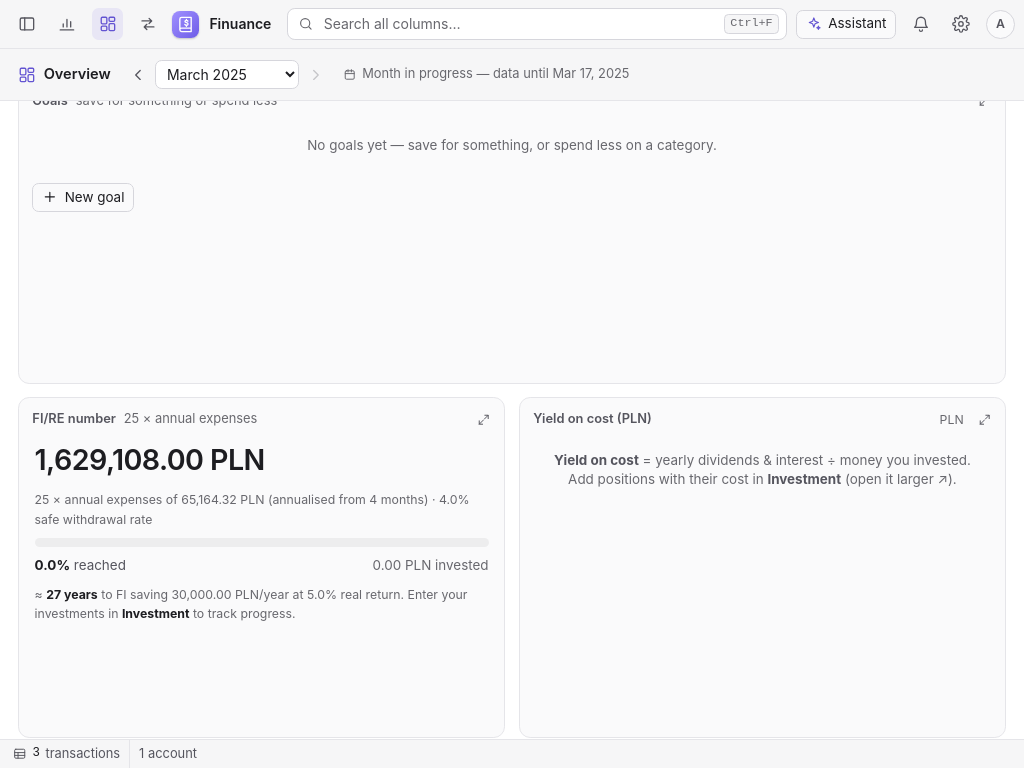
Test: overview page › a stale save shows the stored document
This screenshot has width=1024, height=768.
(page scrolled)
Click the button titled "Open larger" in the row of "FI/RE number" at (482, 420), box [471,408,493,431]
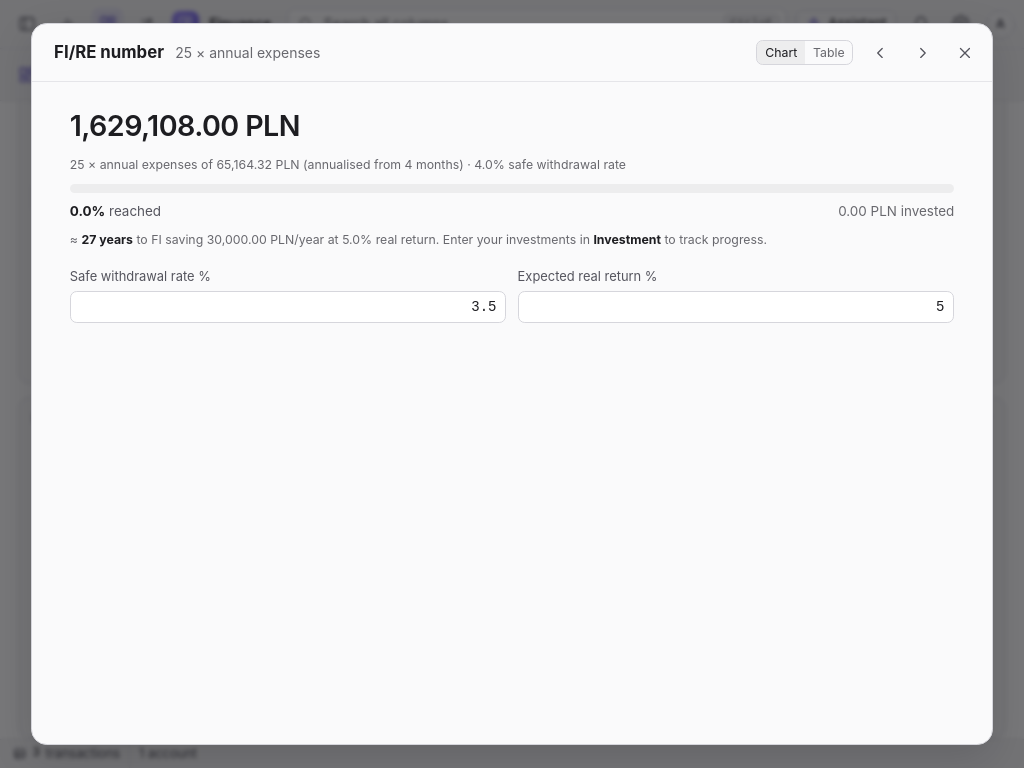
Check: the field labelled "Safe withdrawal rate %" holds "3.5"
Replace the text in the field labelled "Safe withdrawal rate %" with "4" at (288, 307), box [70,291,506,323]
Then press Enter
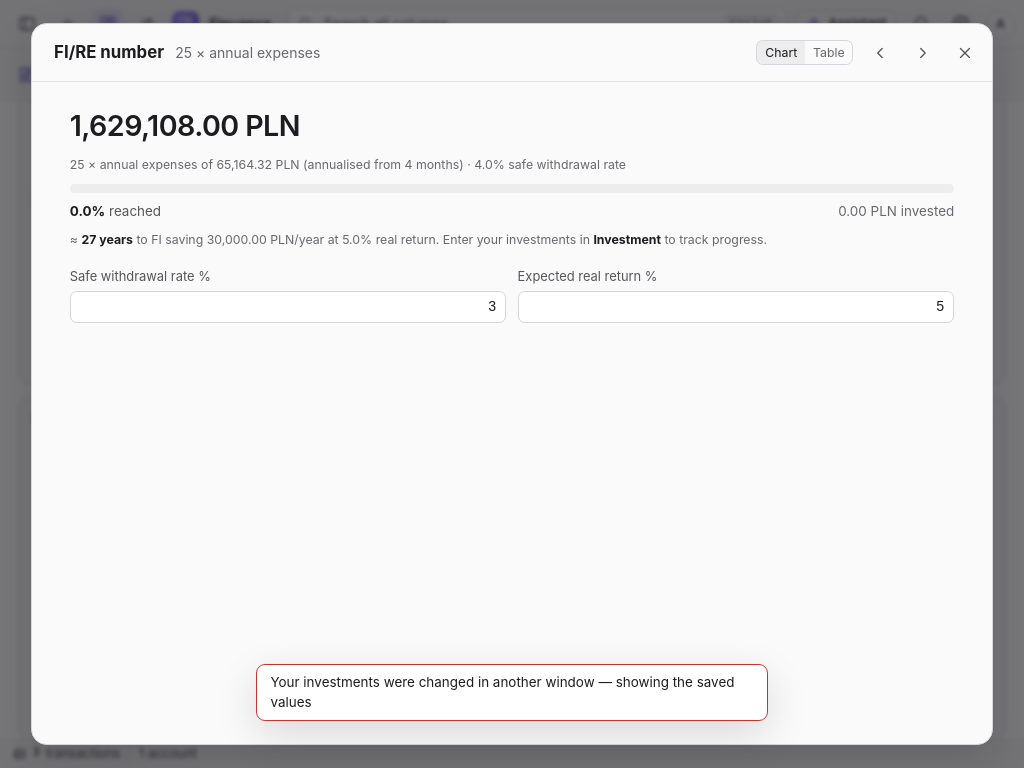
Check: the field labelled "Safe withdrawal rate %" holds "3", box [70,291,506,323]
Check: the text "Your investments were changed in another window — showing the saved values" is shown, box [256,664,768,721]
